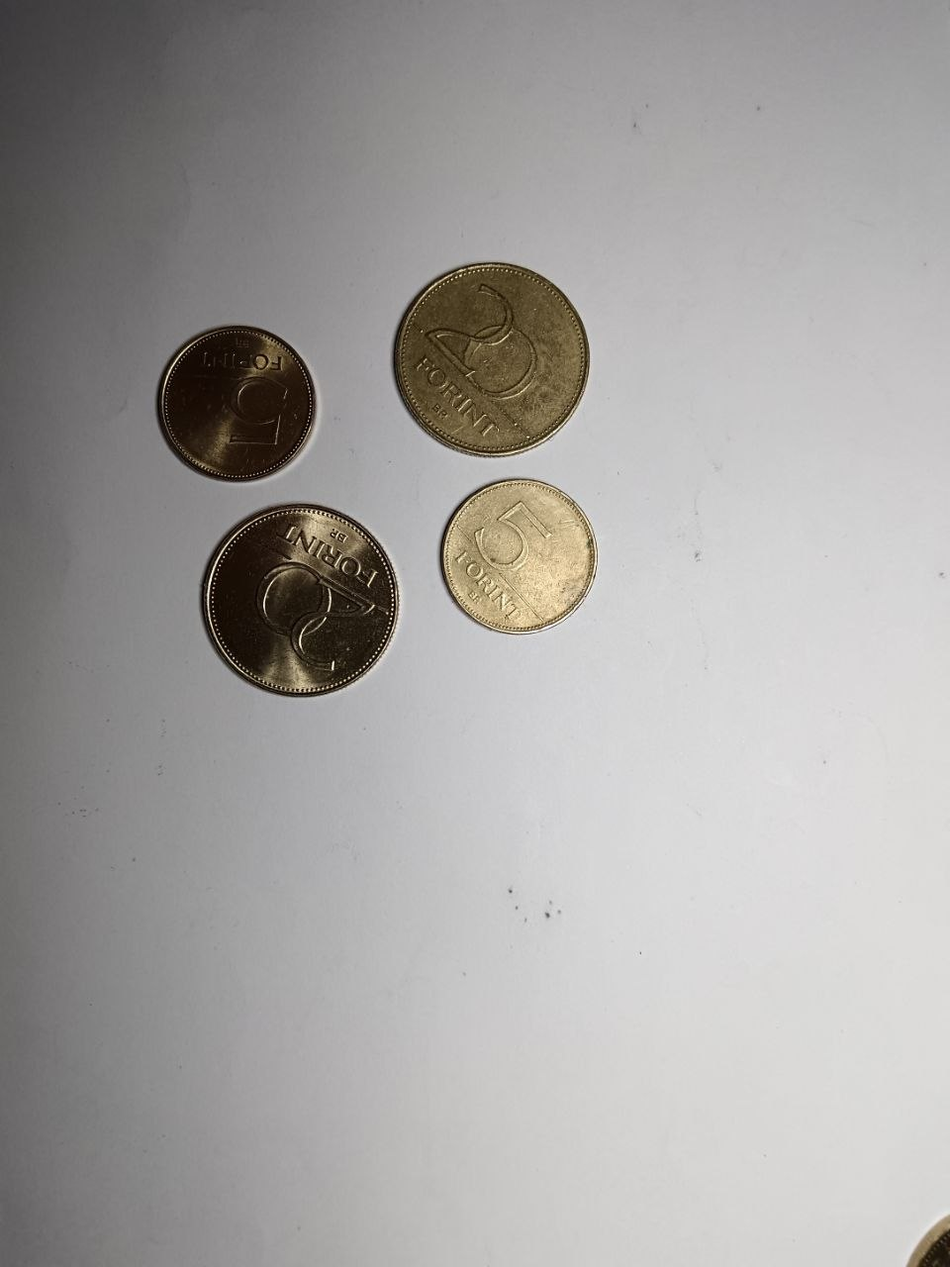20ft: (399, 266, 590, 455), (212, 508, 397, 695)
5ft: (153, 326, 322, 482), (445, 482, 597, 631)
